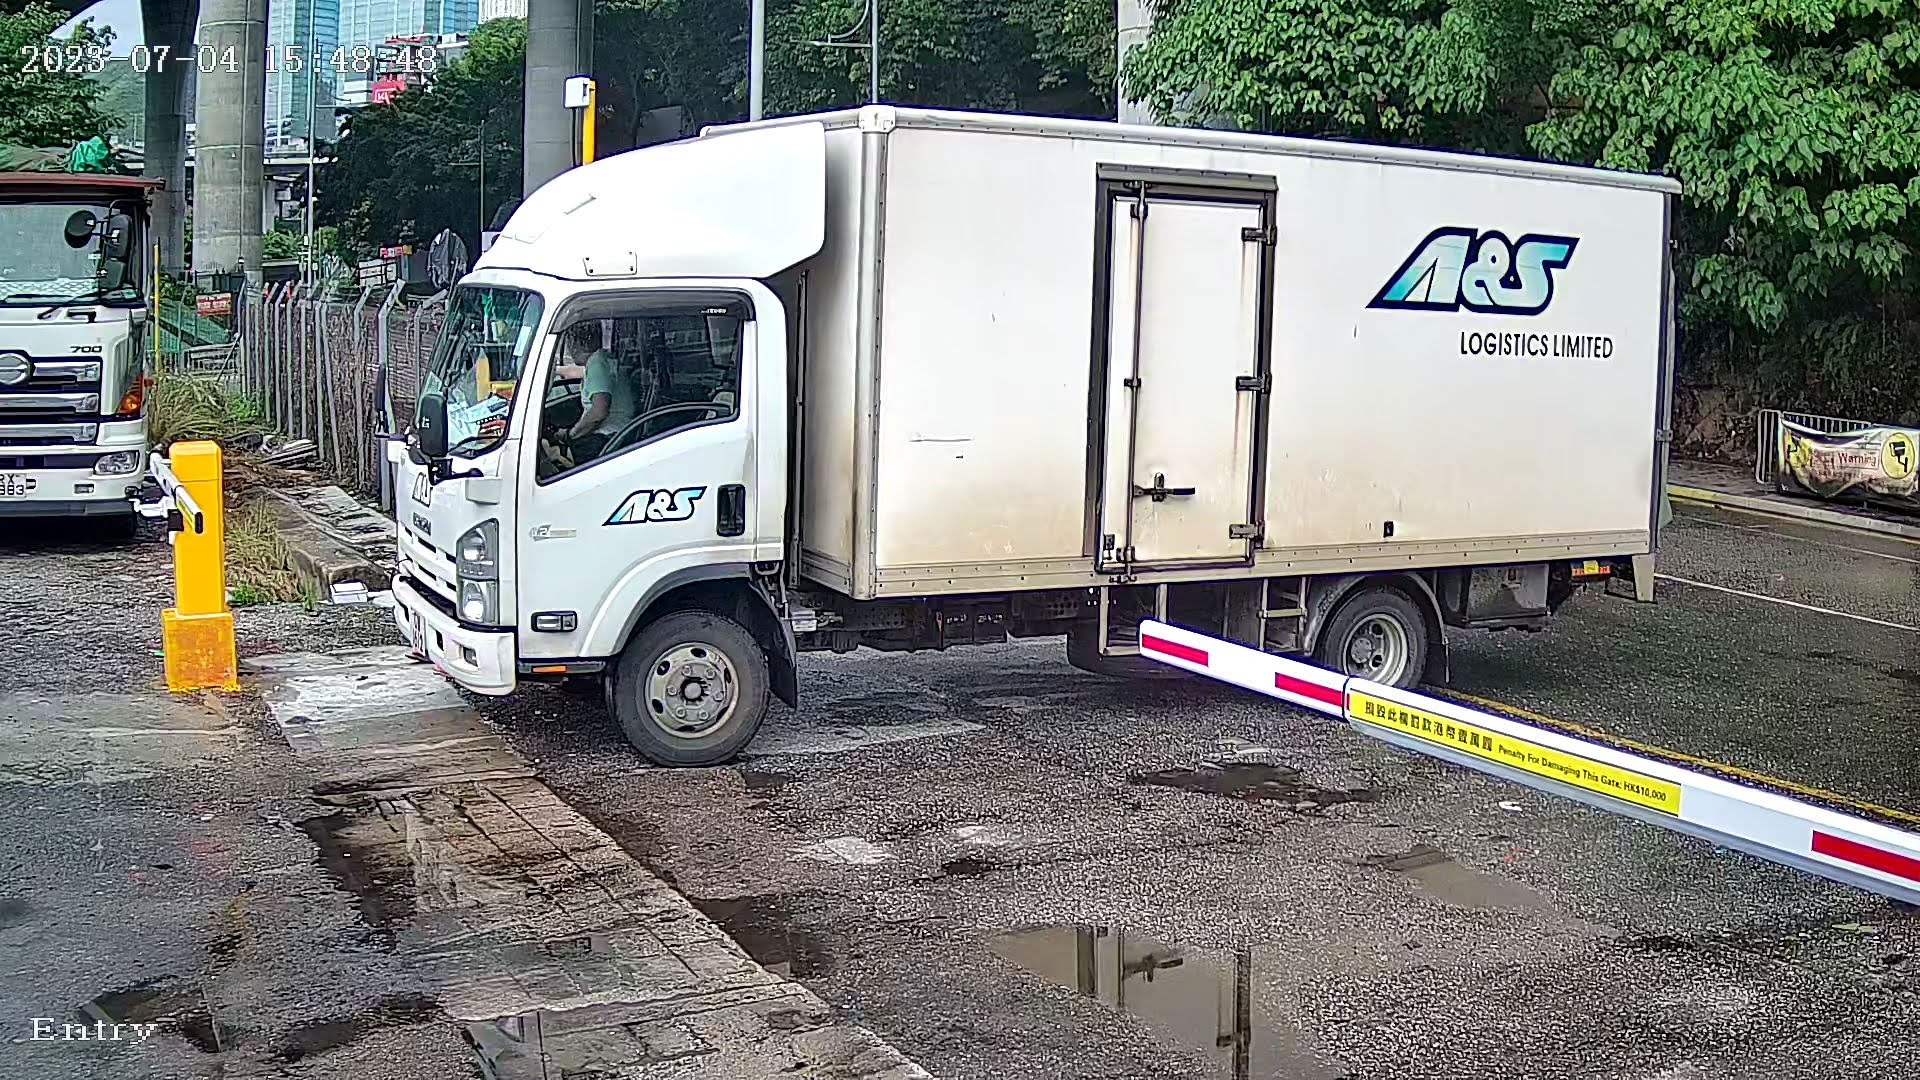truck: (375, 99, 1727, 758)
